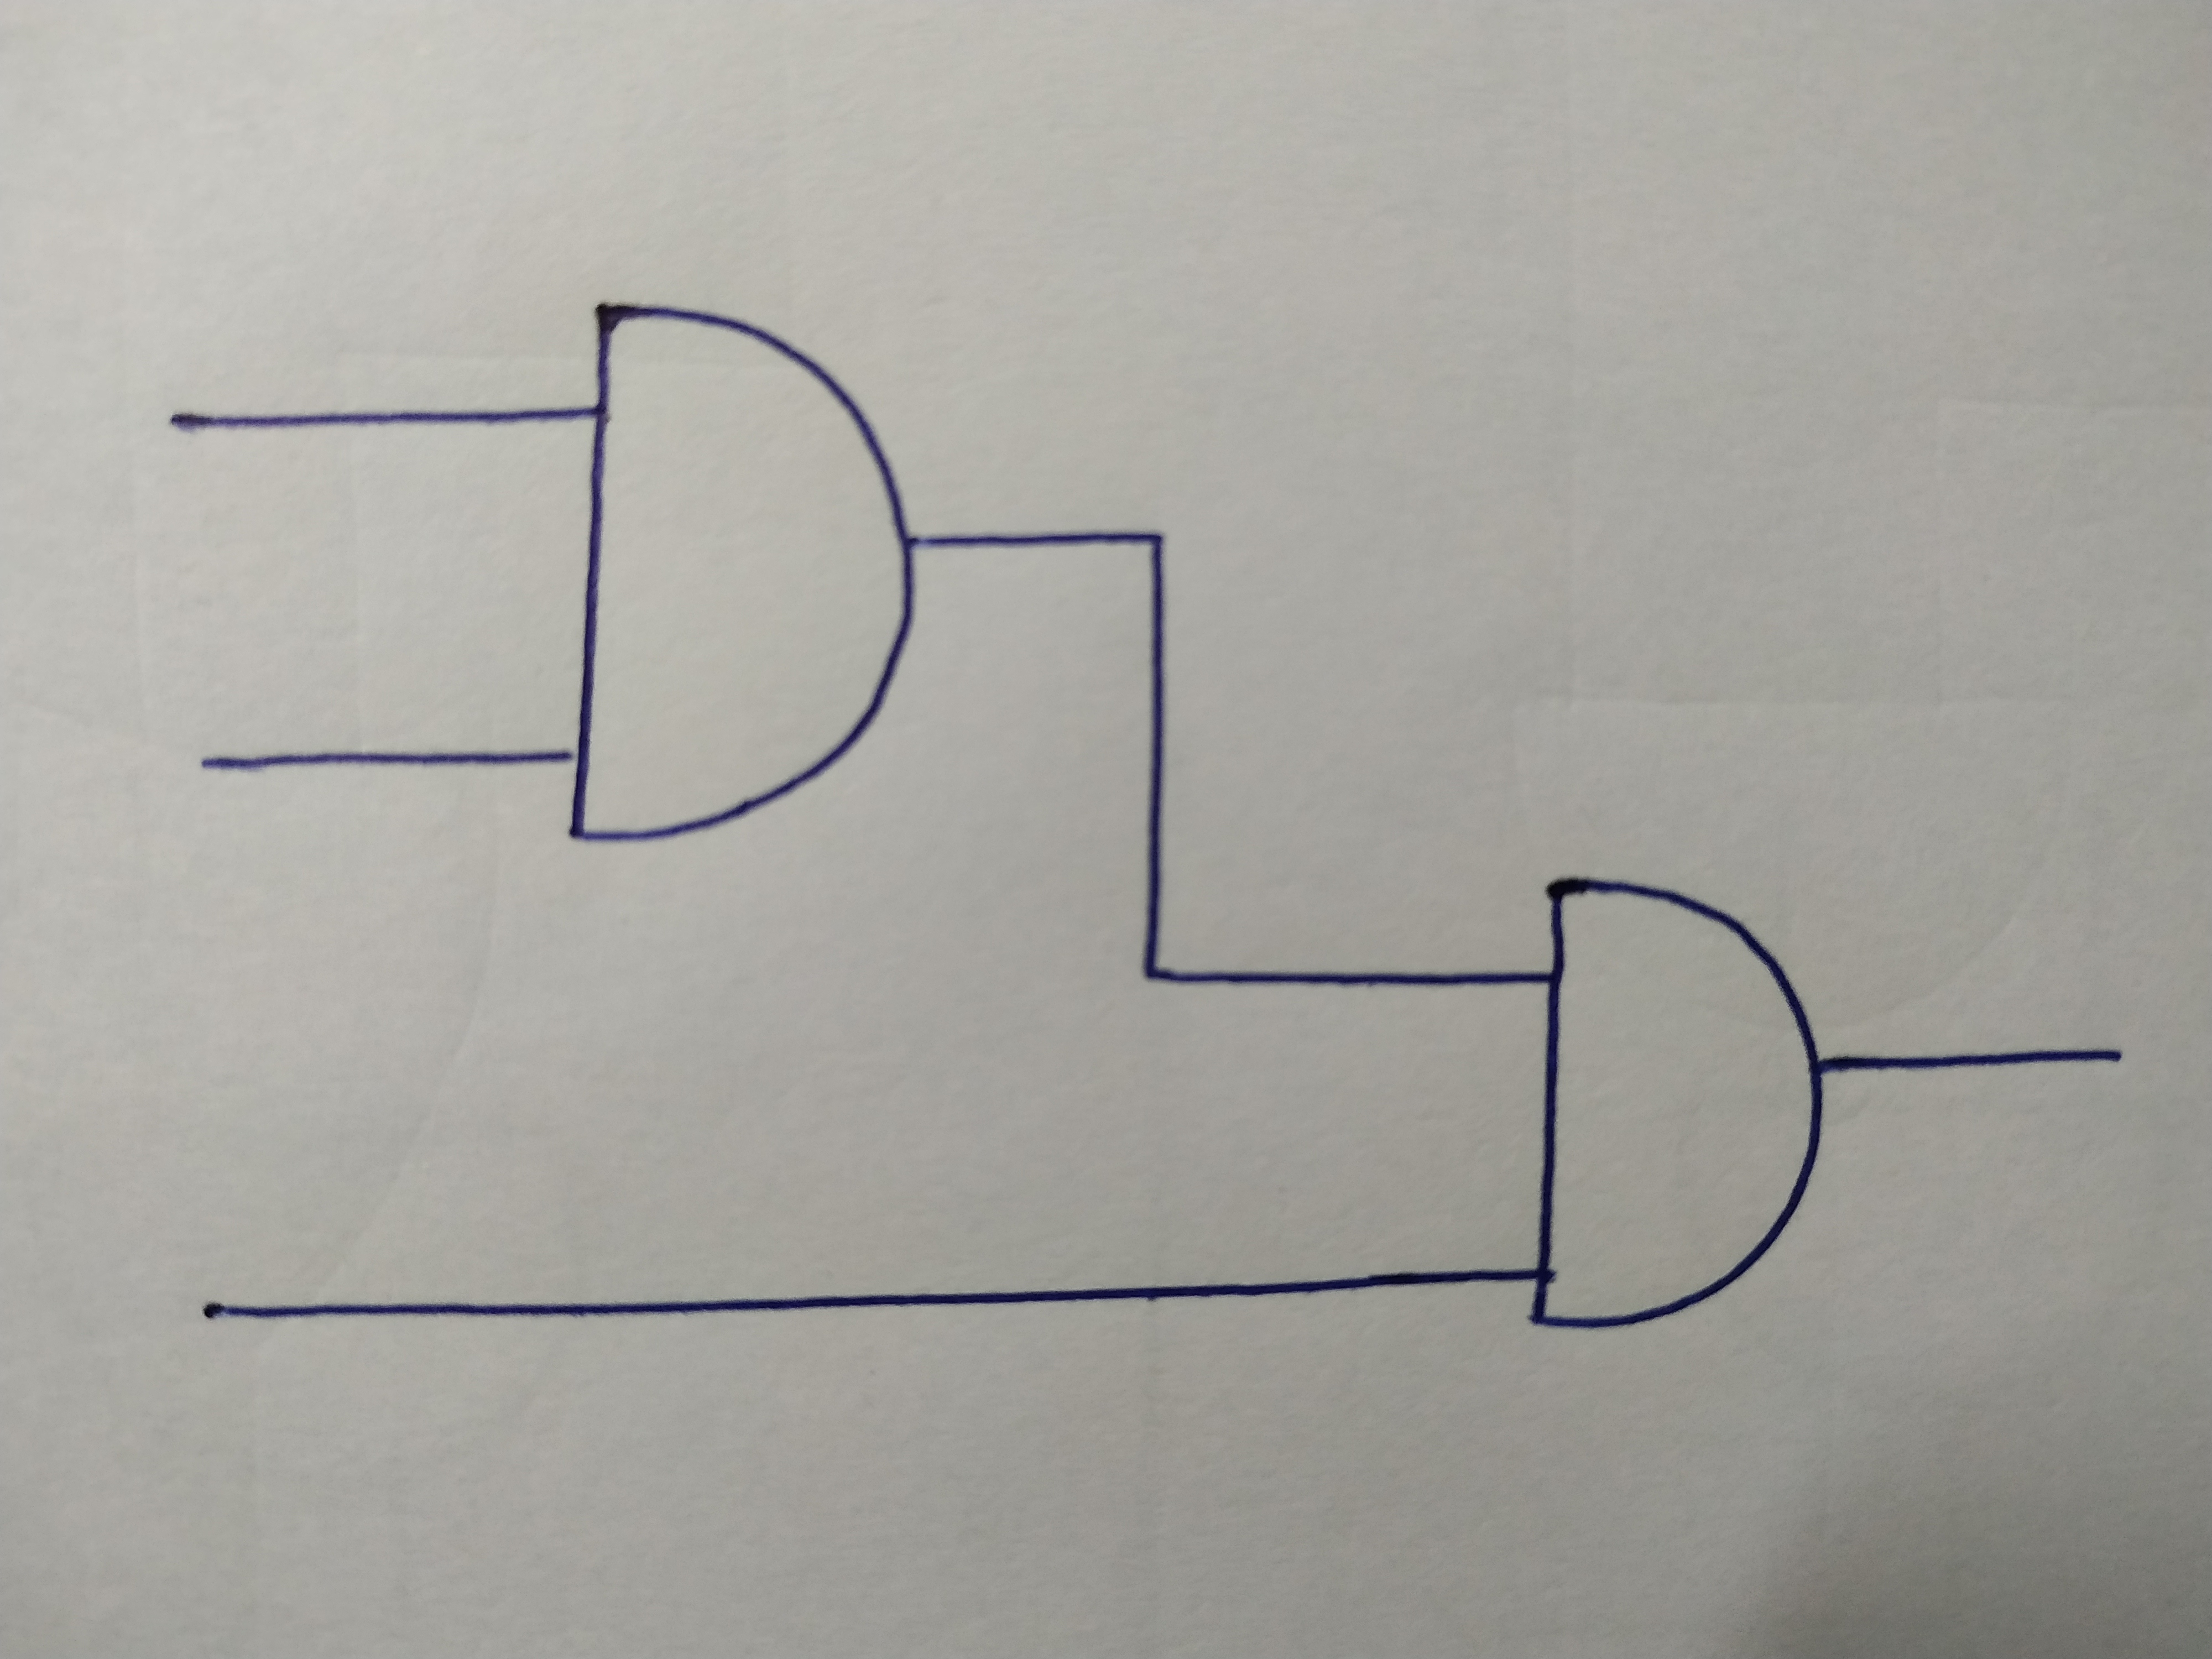and: (564, 296, 914, 842), (1531, 878, 1824, 1340)
